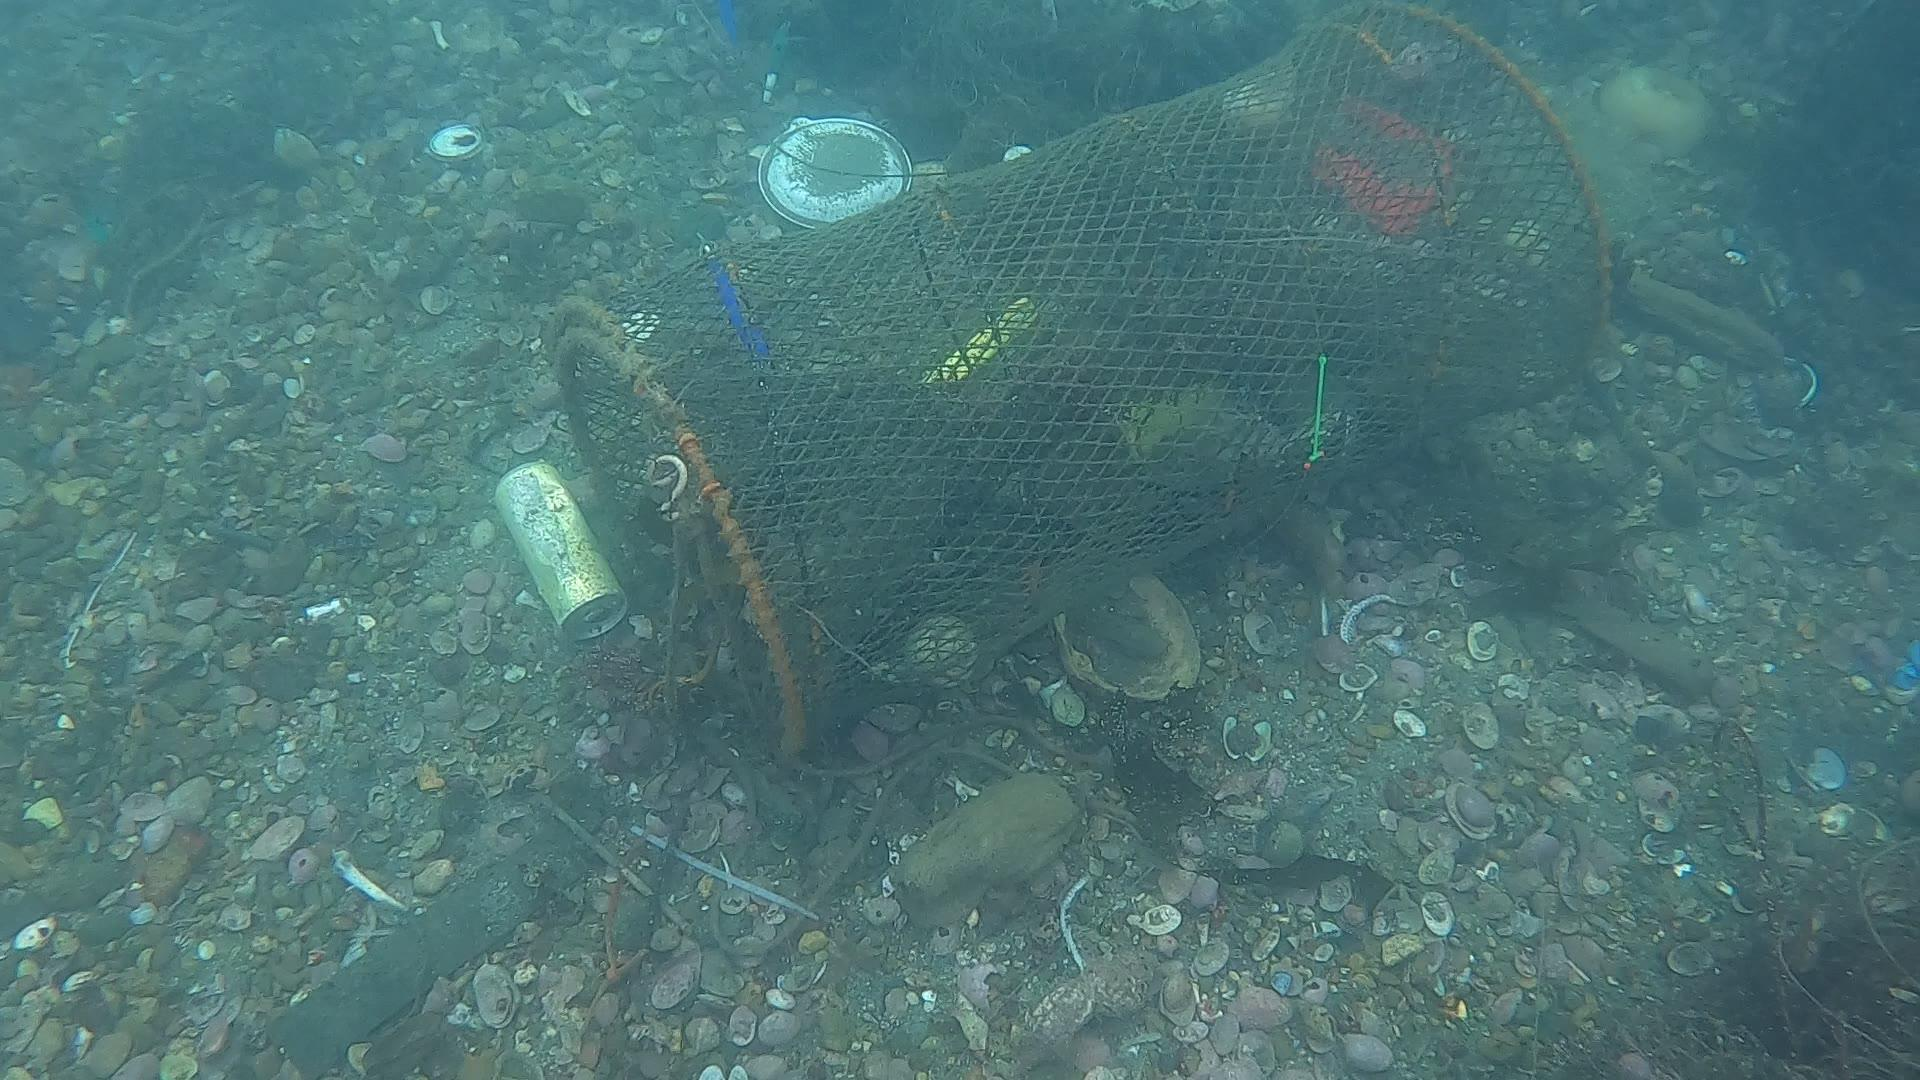spring fish trap: (546, 0, 1617, 773)
